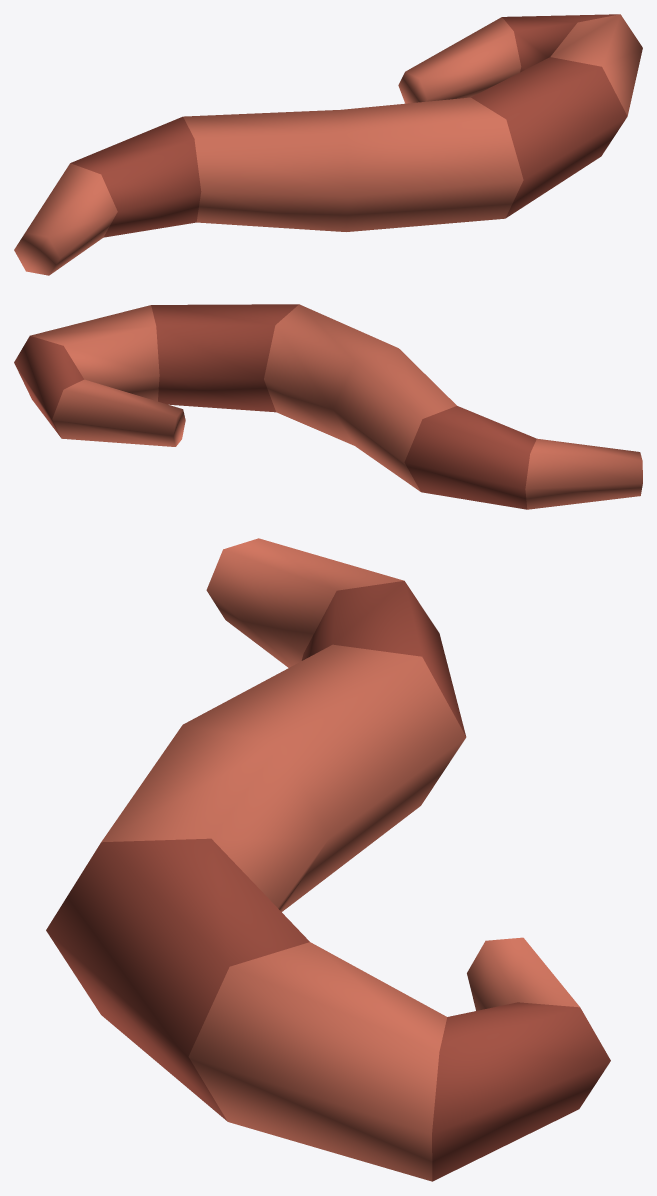
The model's file is FishingBaitStack1.glb.
3 views of the same model, one above another, from view 1: azimuth 30°, elevation 25°; view 2: azimuth 150°, elevation 25°; view 3: azimuth 270°, elevation 25° (orthographic). The views are drawn at different scales.
Visible parts, largest first — view 1: EQ_FishingBait_x1; view 2: EQ_FishingBait_x1; view 3: EQ_FishingBait_x1.
Part boxes in pixels (left/top/right/bottom): EQ_FishingBait_x1: left=14, top=14, right=642, bottom=275; EQ_FishingBait_x1: left=14, top=304, right=642, bottom=509; EQ_FishingBait_x1: left=46, top=538, right=610, bottom=1181.
Bounding box in the file's own units: 0.4931 × 0.0694 × 0.2044.
